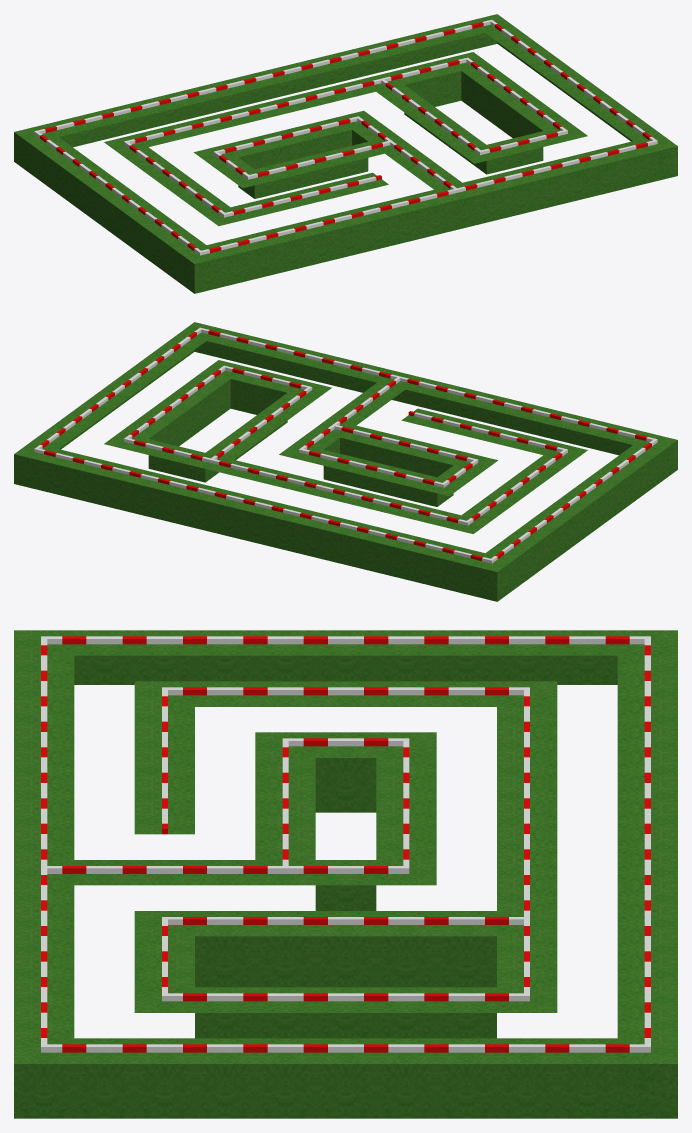
Rendered from circuit_1_G.fbx.
The picture shows the model from 3 angles, top to bottom: view 1: azimuth 30°, elevation 25°; view 2: azimuth 150°, elevation 25°; view 3: azimuth 270°, elevation 25°; orthographic projection. The views are drawn at different scales.
Visible parts, largest first — view 1: polySurface2316; view 2: polySurface2316; view 3: polySurface2316.
Boxes of the visible parts, <box> form: polySurface2316: <box>14,14,677,293</box>; polySurface2316: <box>14,322,677,601</box>; polySurface2316: <box>14,630,677,1118</box>.
Size of the model in its own units: 850 by 55 by 550.
